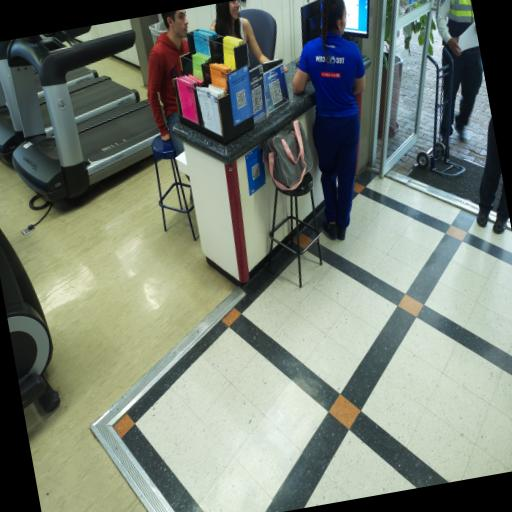person: (292, 0, 364, 240), (436, 0, 483, 140), (147, 10, 188, 155), (210, 0, 268, 63), (476, 119, 501, 227)
